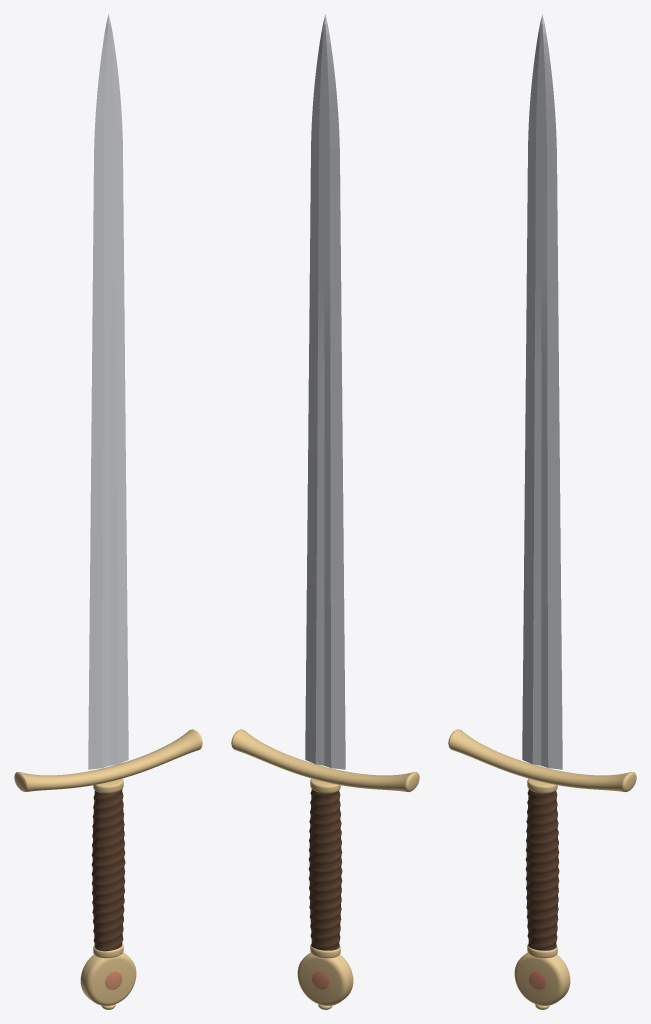
Rendered from sword.glb.
The picture shows the model from 3 angles, left to right: view 1: azimuth 30°, elevation 25°; view 2: azimuth 150°, elevation 25°; view 3: azimuth 330°, elevation 25°; orthographic projection.
Parts seen in each view (by area): view 1: Blade, Grip, Guard, Pommel; view 2: Blade, Grip, Guard, Pommel; view 3: Blade, Grip, Guard, Pommel.
Part boxes in pixels (x1=…): Blade: x1=88, y1=14, x2=128, y2=769; Grip: x1=91, y1=788, x2=125, y2=951; Guard: x1=14, y1=729, x2=202, y2=791; Pommel: x1=80, y1=952, x2=136, y2=1005; Blade: x1=305, y1=14, x2=345, y2=769; Grip: x1=308, y1=789, x2=342, y2=950; Guard: x1=231, y1=729, x2=419, y2=791; Pommel: x1=297, y1=952, x2=353, y2=1005; Blade: x1=522, y1=14, x2=562, y2=769; Grip: x1=525, y1=789, x2=559, y2=950; Guard: x1=448, y1=729, x2=636, y2=791; Pommel: x1=514, y1=952, x2=570, y2=1005.
Bounding box in the file's own units: 0.2291 × 1.22 × 0.0321.
